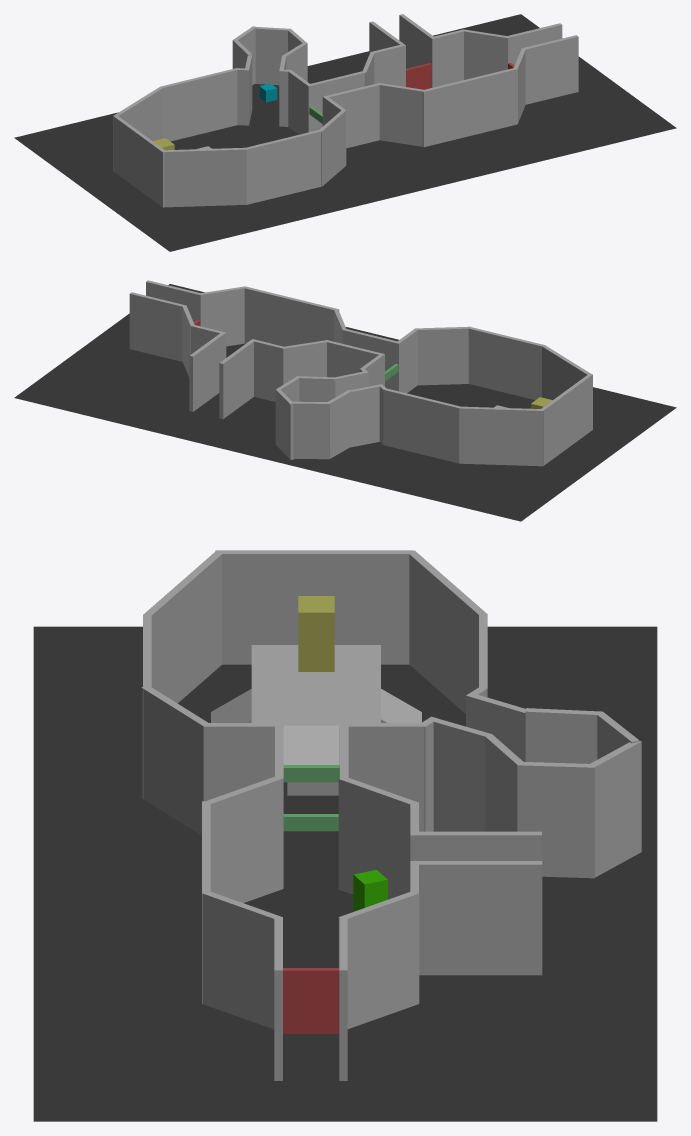
The model's file is BASE_BLOCKOUT.fbx.
3 renders of one model, top to bottom at view 1: azimuth 30°, elevation 25°; view 2: azimuth 150°, elevation 25°; view 3: azimuth 270°, elevation 25°, orthographic. The views are drawn at different scales.
Visible parts, largest first — view 1: Floor, Wall_Upgrade_Room3, Wall_Teleport_Room2, Wall_Teleport_Room3, Wall_Teleport_Room7, Wall_Hallway_3_2, Wall_Teleport_Room1, Wall_Upgrade_Room2, Wall_Hallway_1_2, Wall_Upgrade_Room6, Wall_Upgrade_Room7, Wall_Mother4 (+16 smaller); view 2: Floor, Wall_Teleport_Room6, Wall_Teleport_Room7, Wall_Teleport_Room3, Wall_Upgrade_Room3, Wall_Hallway_3_1, Wall_Teleport_Room4, Wall_Teleport_Room1, Wall_Upgrade_Room4, Wall_Mother3, Wall_Hallway_4_2, Wall_Hallway_4_1 (+16 smaller); view 3: Floor, Wall_Teleport_Room1, Wall_Hallway_4_1, Platform, Wall_Upgrade_Room6, Wall_Upgrade_Room4, Wall_Upgrade_Room2, Wall_Teleport_Room6, Wall_Teleport_Room2, Wall_Mother5, Wall_Teleport_Room4, Wall_Upgrade_Room1 (+21 smaller).
Part boxes in pixels (x1=…): Floor: x1=14, y1=14, x2=676, y2=251; Wall_Upgrade_Room3: x1=422, y1=67, x2=517, y2=147; Wall_Teleport_Room2: x1=163, y1=147, x2=246, y2=207; Wall_Teleport_Room3: x1=245, y1=130, x2=322, y2=204; Wall_Teleport_Room7: x1=161, y1=68, x2=238, y2=141; Wall_Hallway_3_2: x1=522, y1=35, x2=578, y2=104; Wall_Teleport_Room1: x1=113, y1=115, x2=166, y2=207; Wall_Upgrade_Room2: x1=378, y1=83, x2=425, y2=146; Wall_Hallway_1_2: x1=325, y1=83, x2=379, y2=148; Wall_Upgrade_Room6: x1=462, y1=29, x2=509, y2=79; Wall_Upgrade_Room7: x1=430, y1=29, x2=464, y2=87; Wall_Mother4: x1=255, y1=26, x2=289, y2=85; Floor: x1=14, y1=284, x2=676, y2=521; Wall_Teleport_Room6: x1=459, y1=406, x2=543, y2=466; Wall_Teleport_Room7: x1=383, y1=388, x2=460, y2=463; Wall_Teleport_Room3: x1=468, y1=326, x2=544, y2=399; Wall_Upgrade_Room3: x1=244, y1=286, x2=339, y2=346; Wall_Hallway_3_1: x1=129, y1=292, x2=185, y2=361; Wall_Teleport_Room4: x1=416, y1=326, x2=471, y2=385; Wall_Teleport_Room1: x1=540, y1=374, x2=592, y2=465; Wall_Upgrade_Room4: x1=199, y1=286, x2=245, y2=346; Wall_Mother3: x1=291, y1=401, x2=329, y2=459; Wall_Hallway_4_2: x1=219, y1=340, x2=254, y2=418; Wall_Hallway_4_1: x1=189, y1=333, x2=223, y2=411; Floor: x1=33, y1=626, x2=657, y2=1121; Wall_Teleport_Room1: x1=215, y1=550, x2=412, y2=664; Wall_Hallway_4_1: x1=416, y1=861, x2=542, y2=975; Platform: x1=251, y1=645, x2=380, y2=725; Wall_Upgrade_Room6: x1=338, y1=891, x2=419, y2=1028; Wall_Upgrade_Room4: x1=202, y1=890, x2=281, y2=1029; Wall_Upgrade_Room2: x1=203, y1=776, x2=283, y2=902; Wall_Teleport_Room6: x1=409, y1=550, x2=487, y2=713; Wall_Teleport_Room2: x1=143, y1=551, x2=223, y2=703; Wall_Mother5: x1=517, y1=761, x2=595, y2=878; Wall_Teleport_Room4: x1=141, y1=686, x2=207, y2=835; Wall_Upgrade_Room1: x1=338, y1=776, x2=419, y2=899.
Bounding box in the file's own units: 4534 × 503 × 2414.
